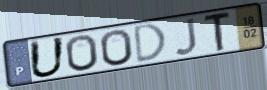D: (133, 21, 169, 65)
J: (173, 16, 199, 57)
O: (64, 34, 101, 74), (99, 28, 135, 68)
T: (203, 9, 233, 54)
U: (28, 35, 67, 80)
